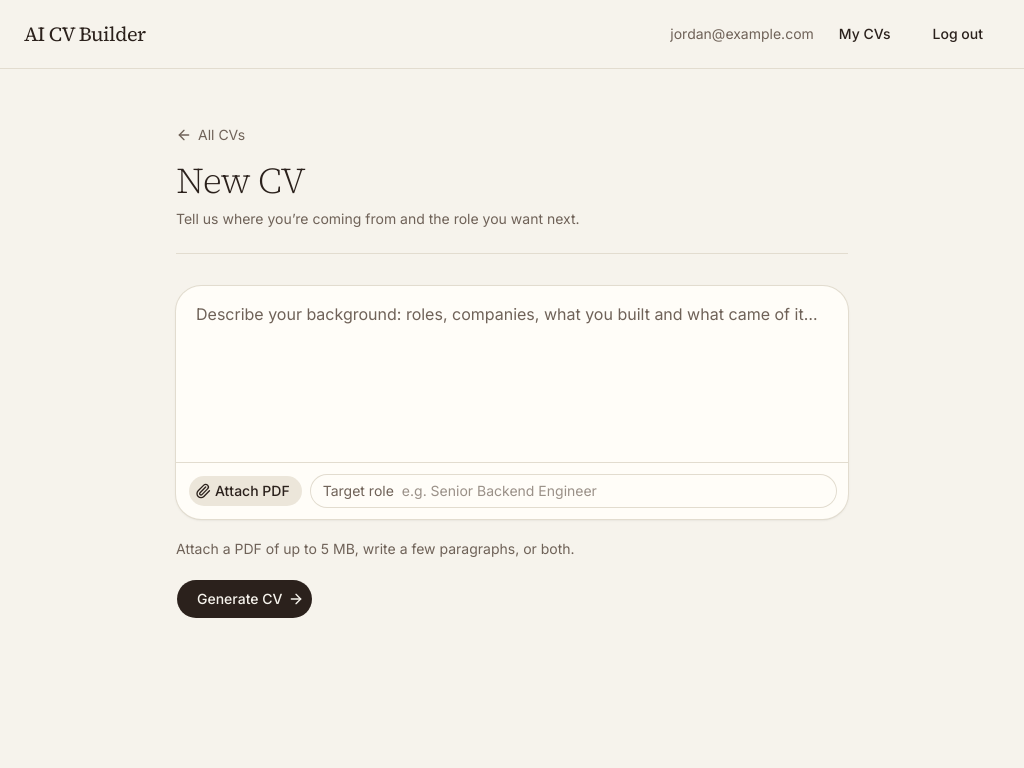
Test: NewCvPage › starts generation and opens the progress screen
Type "Eight years of backend work." into the text box labelled "your background" at (512, 374), box top-left (176, 286), bottom-right (848, 462)
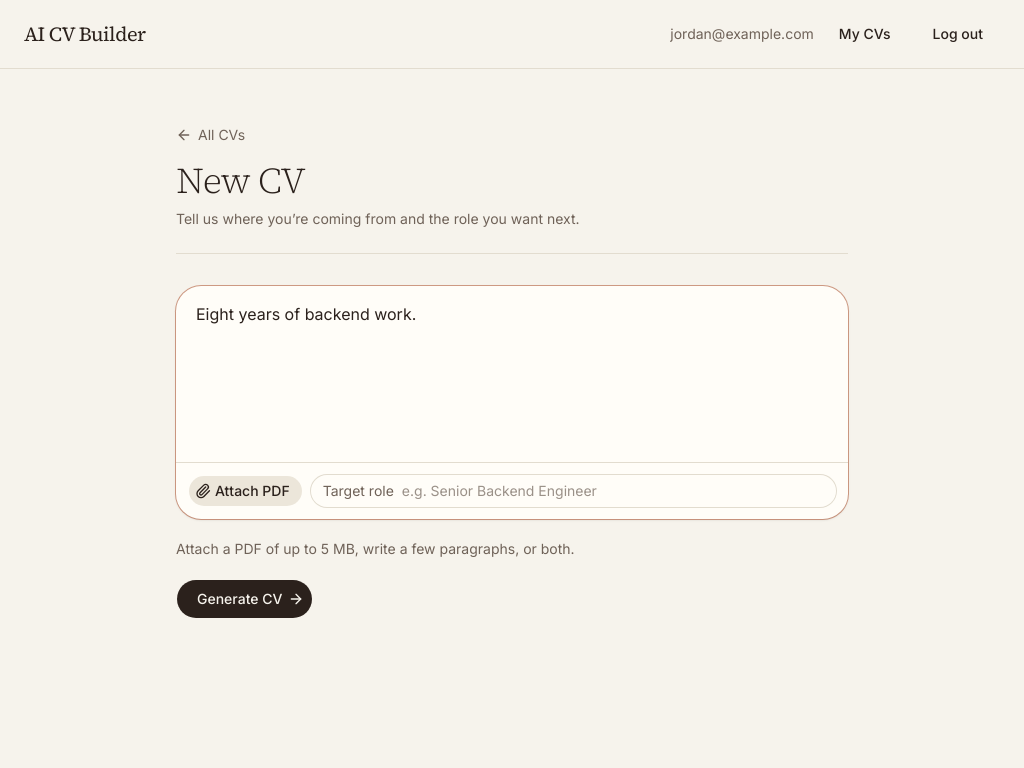
Type "Senior Backend Engineer" into the field labelled "Target role" at (613, 491), box top-left (402, 481), bottom-right (824, 501)
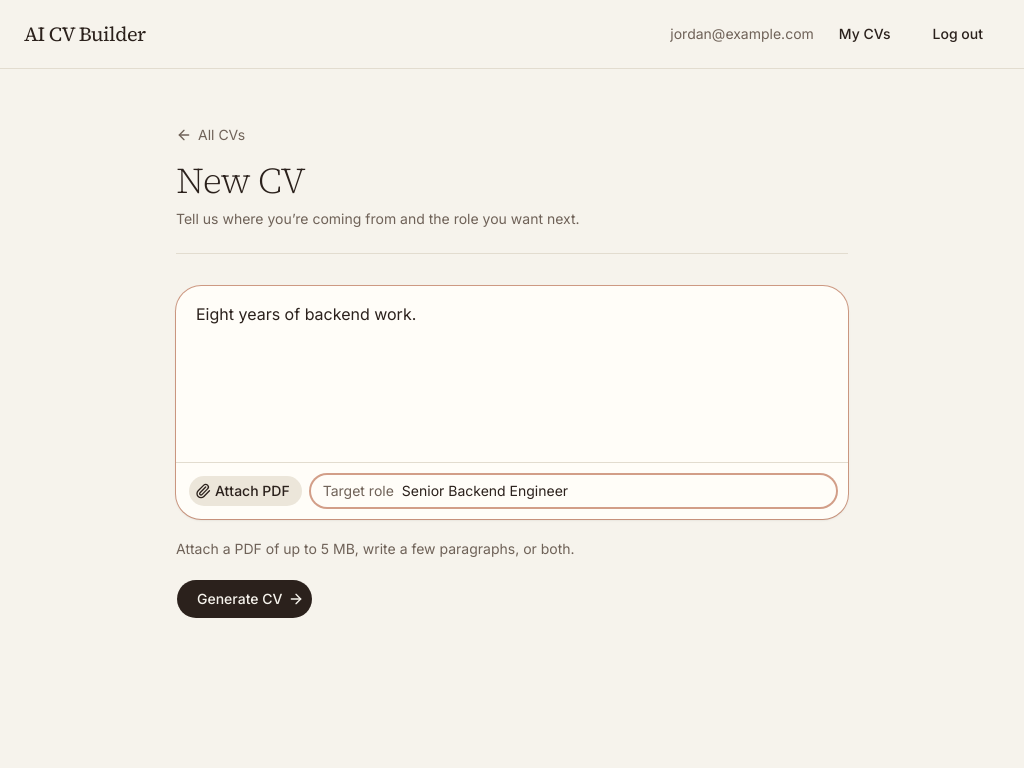
Click the button "Generate CV" at (245, 599), box top-left (176, 579), bottom-right (313, 619)
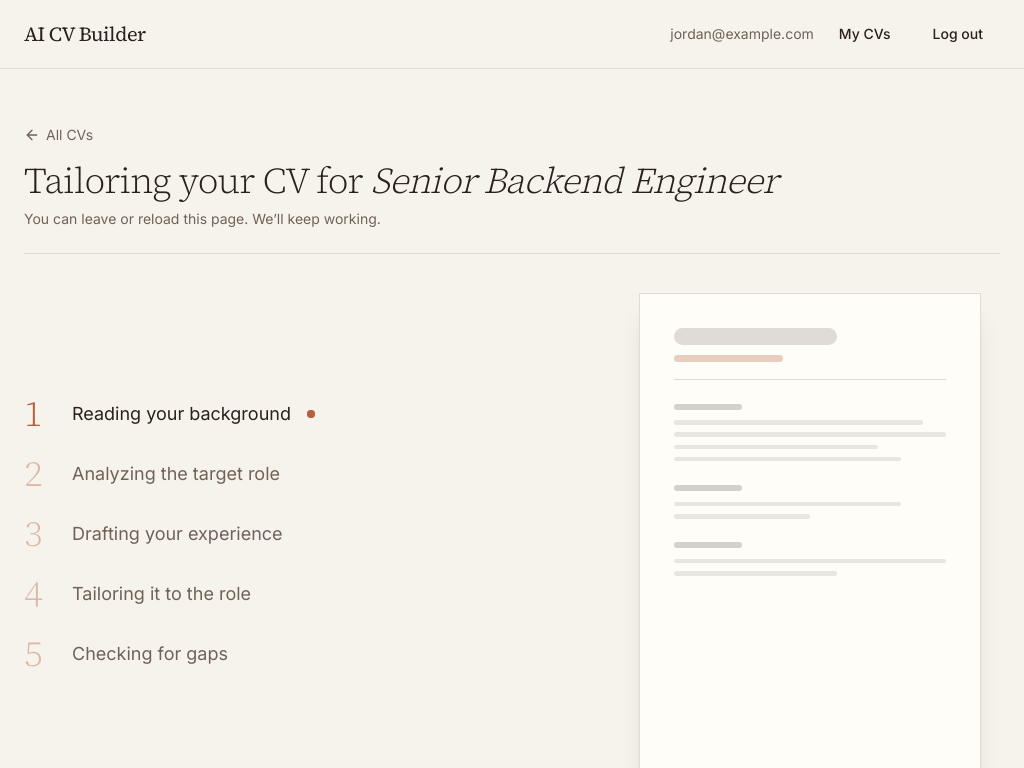
Check: the heading "Tailoring your CV for Senior Backend Engineer" is shown, box top-left (24, 161), bottom-right (777, 201)
